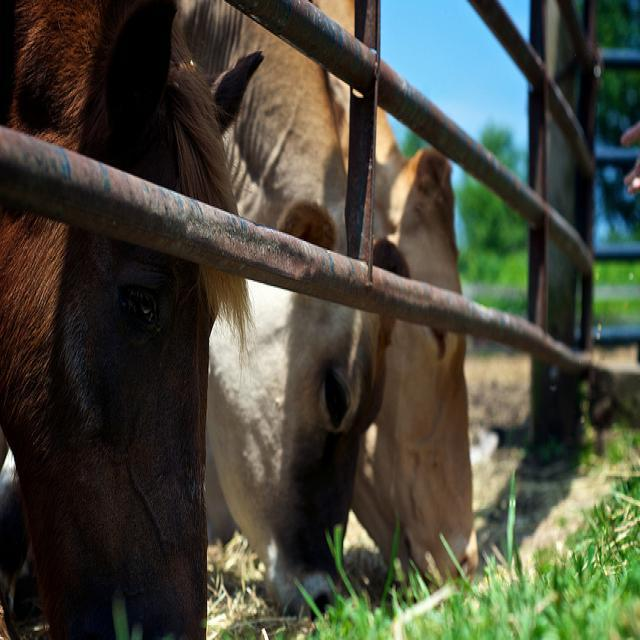cow: (205, 22, 415, 616), (304, 0, 473, 598)
